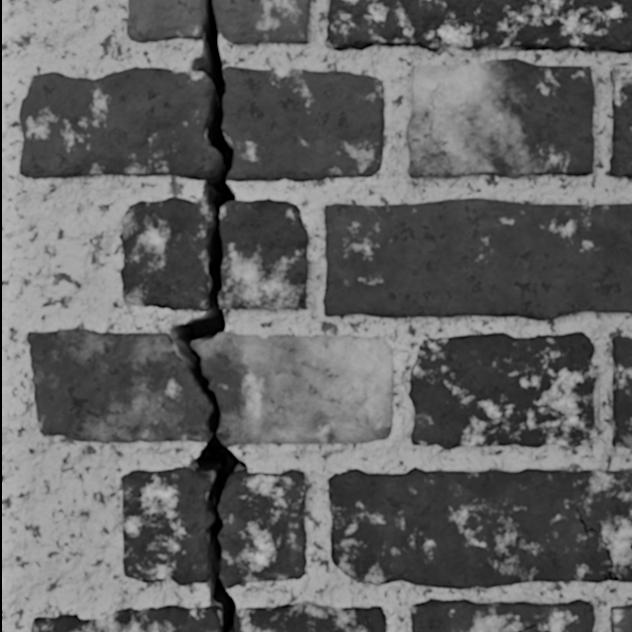brick: (323, 198, 631, 319), (329, 468, 631, 588), (407, 59, 594, 177), (409, 332, 597, 448), (325, 0, 631, 53), (411, 599, 594, 631), (610, 63, 631, 177), (612, 336, 631, 448), (611, 605, 631, 631)
broken_brick: (192, 331, 394, 447), (18, 66, 217, 181), (26, 327, 210, 443), (224, 65, 385, 182), (120, 466, 212, 586), (118, 196, 210, 312), (220, 468, 307, 589), (220, 198, 308, 310), (30, 604, 217, 631), (236, 600, 386, 631), (216, 0, 311, 45), (126, 0, 204, 43)
crack: (167, 0, 248, 631), (575, 506, 621, 582), (0, 0, 4, 631), (518, 623, 537, 631), (124, 569, 127, 577)
